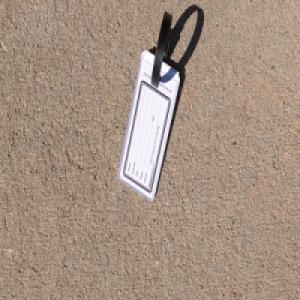LuggageTag: (117, 10, 182, 204)
